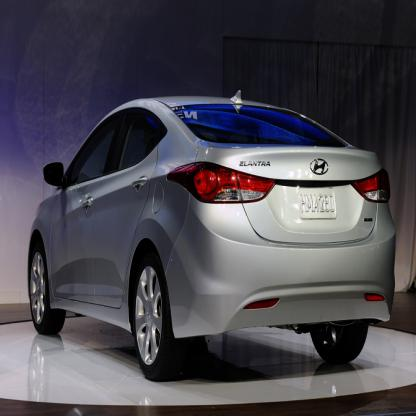Car: (22, 90, 400, 416)
